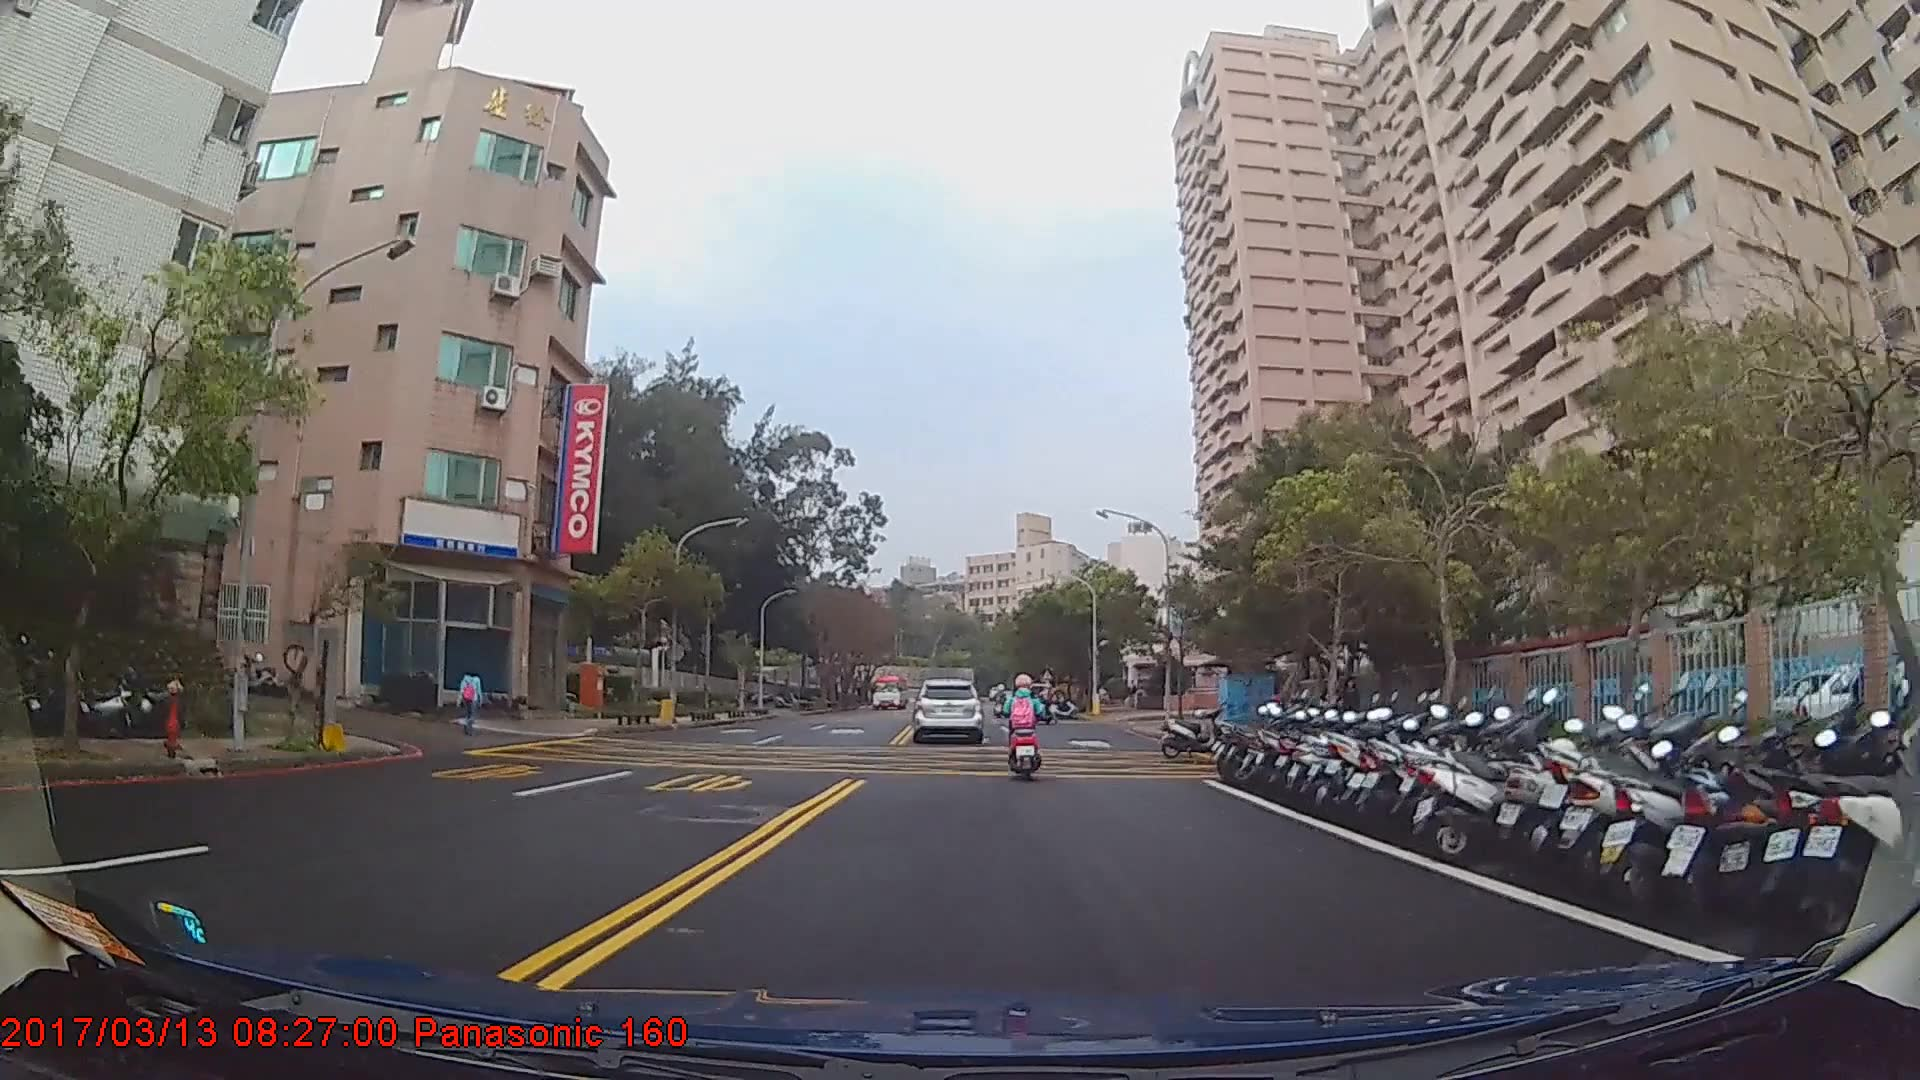pedestrian: (460, 662, 486, 737)
rider: (999, 669, 1050, 782)
vehicle: (911, 676, 980, 742), (868, 673, 910, 712)
